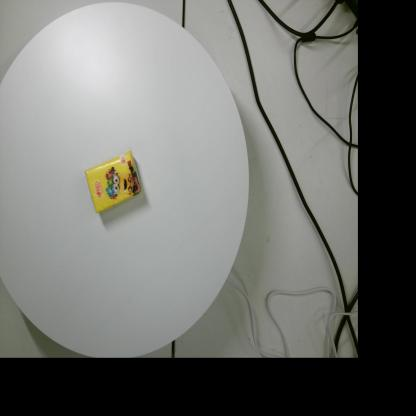Tissue: (84, 150, 142, 214)
